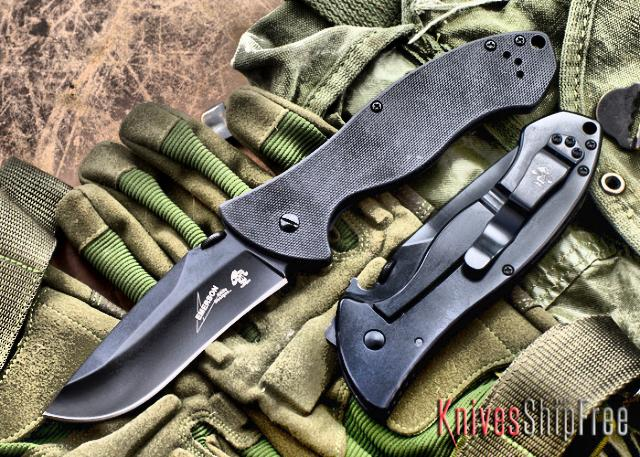knife: (33, 211, 295, 426)
